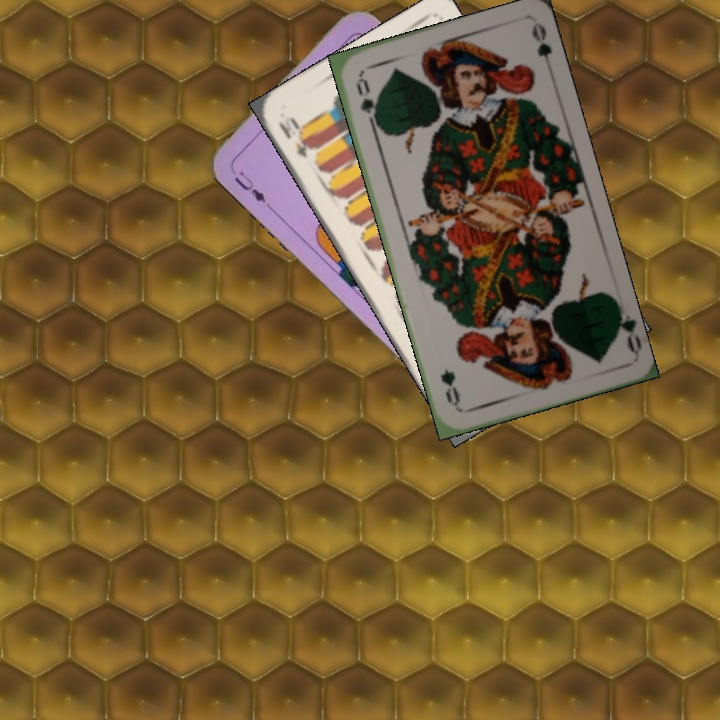E10: (273, 113, 316, 161)
EU: (226, 161, 272, 208)
GO: (611, 299, 643, 356), (352, 72, 383, 130)
